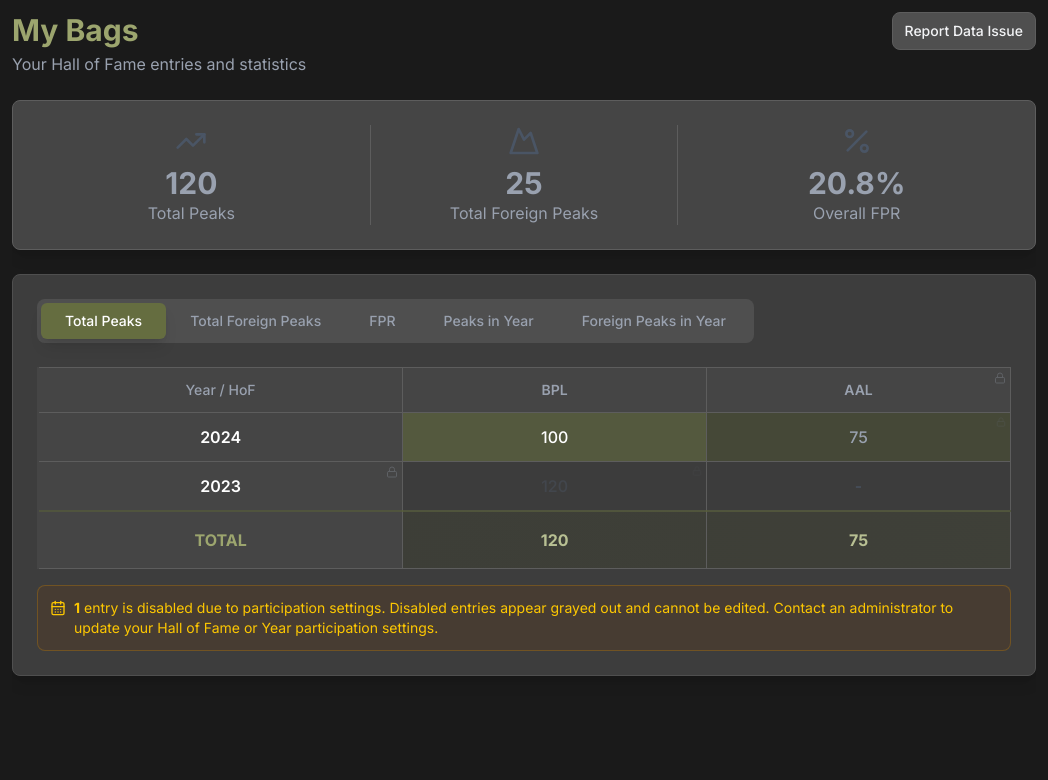
it: MyBagsManagement › Metric Selection › should switch to peaks in year metric
Click the button "Peaks in Year": (489, 321) [420, 303, 558, 339]
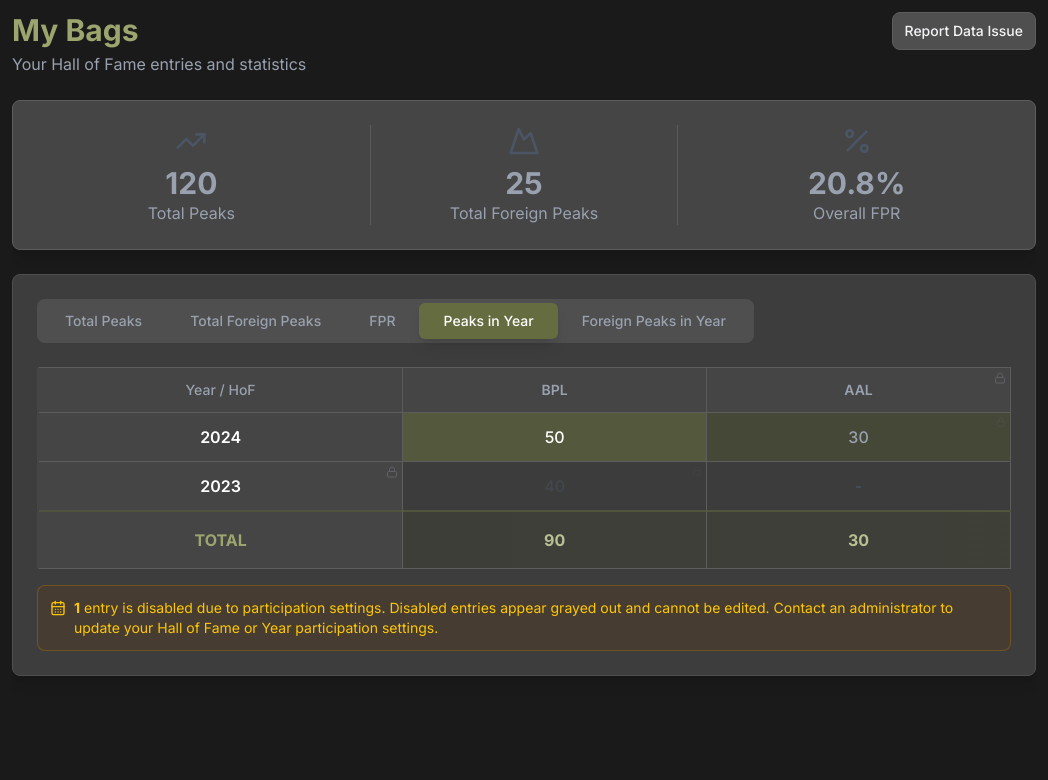
Check: the text "50" is shown, box [545, 427, 565, 447]
